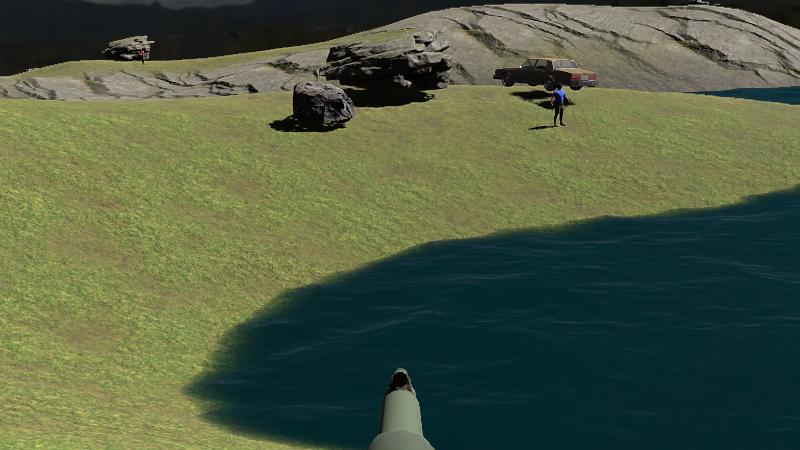Human: (551, 81, 569, 128)
car: (492, 55, 598, 92)
